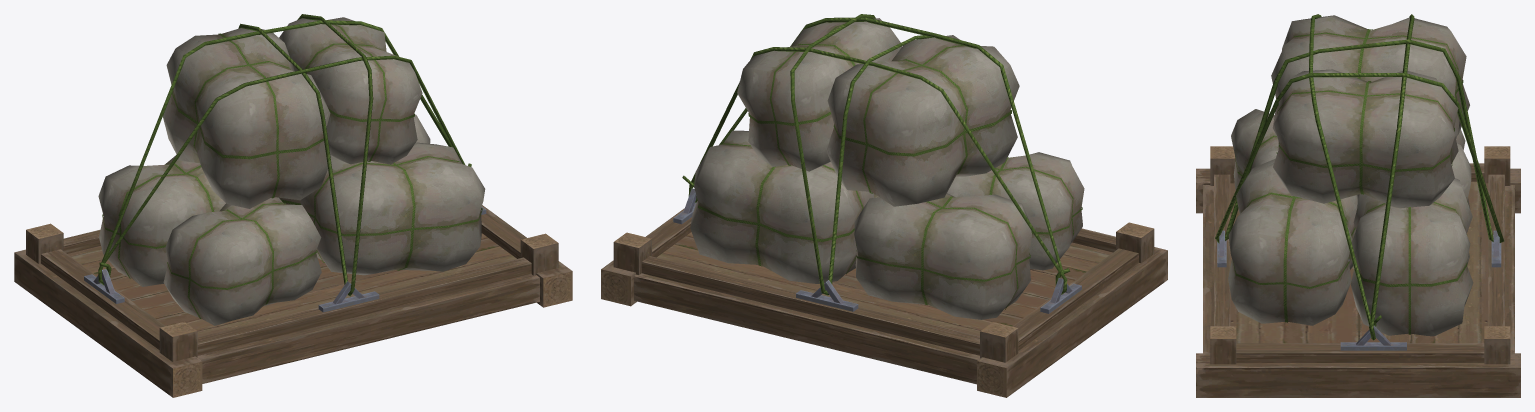
File: Homeworld_Exterior_Xm_Decoration_Prop_Huowudui_01_Lod0.fbx
The picture shows the model from 3 angles, left to right: view 1: azimuth 30°, elevation 25°; view 2: azimuth 150°, elevation 25°; view 3: azimuth 270°, elevation 25°; orthographic projection. The views are drawn at different scales.
Parts seen in each view (by area): view 1: Area_Xm_Prop_XKC_Matouwujian_04_Lod0; view 2: Area_Xm_Prop_XKC_Matouwujian_04_Lod0; view 3: Area_Xm_Prop_XKC_Matouwujian_04_Lod0.
Part boxes in pixels (x1,y1,x2,y2): Area_Xm_Prop_XKC_Matouwujian_04_Lod0: [14, 14, 572, 397]; Area_Xm_Prop_XKC_Matouwujian_04_Lod0: [601, 14, 1167, 397]; Area_Xm_Prop_XKC_Matouwujian_04_Lod0: [1196, 14, 1520, 397].
Size of the model in its own units: 3.19 by 1.89 by 2.19.
